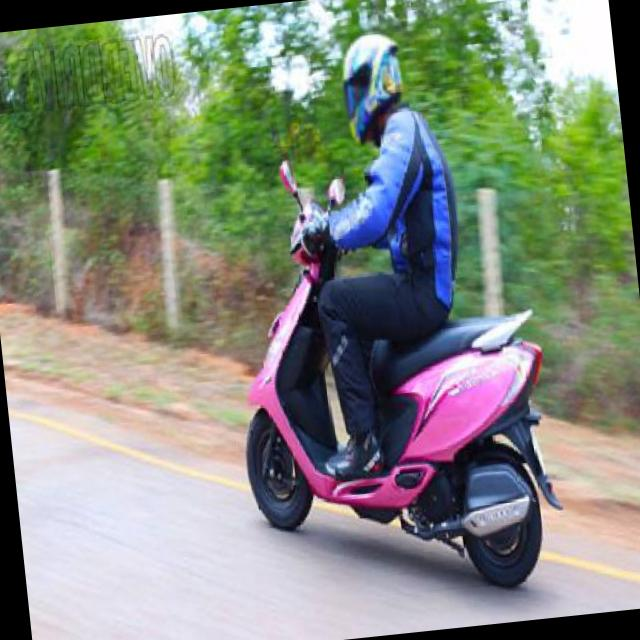With Helmet: (330, 19, 412, 150)
